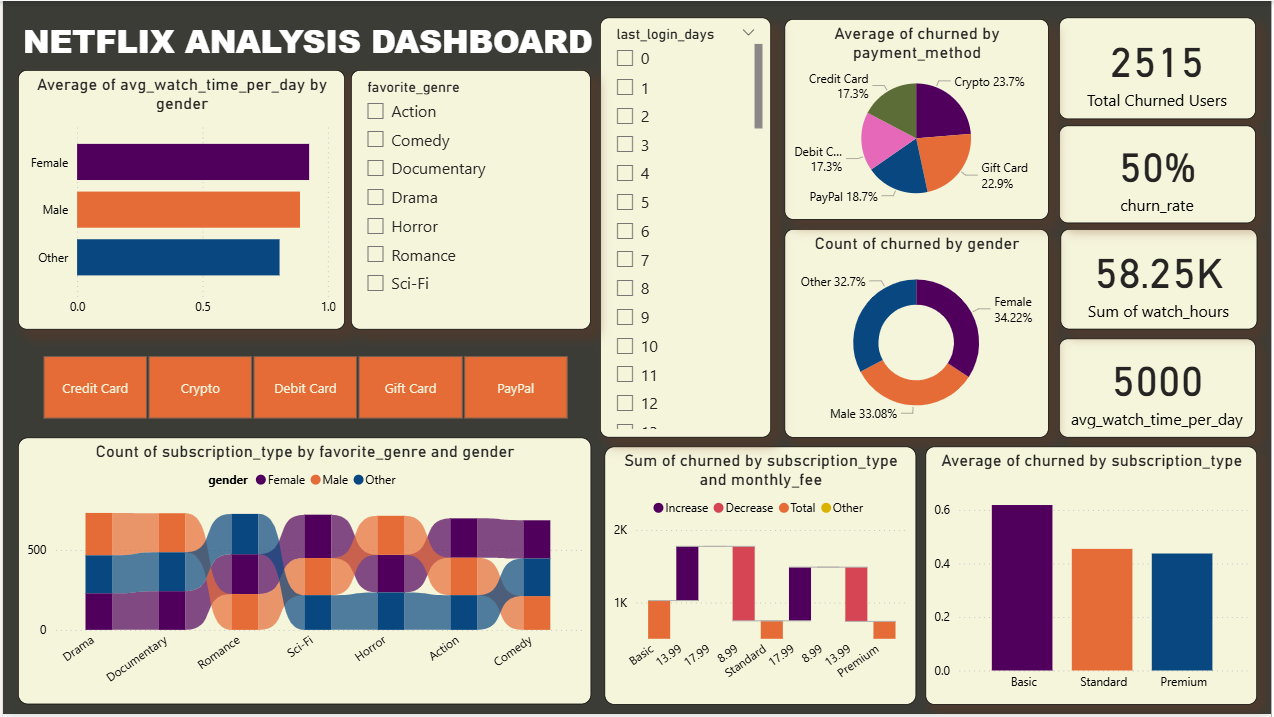

This screenshot's page, from the dashboard's own definition file:
{"tool":"powerbi","page":{"name":"Page 1","canvas":[1280,720],"ordinal":0},"visuals":[{"type":"card","fields":{"Values":["CountNonNull(netflix_customer_churn.avg_watch_time_per_day)"]},"box":[1066,340.7,198.4,99.9],"z":0},{"type":"card","fields":{"Values":["Sum(netflix_customer_churn.churned)"]},"box":[1066,16.7,198.4,103],"z":1000},{"type":"card","fields":{"Values":["Sum(netflix_customer_churn.watch_hours)"]},"box":[1067.5,230.2,198.4,101.5],"z":2000},{"type":"card","fields":{"Values":["netflix_customer_churn.churn_rate"]},"box":[1066,125.7,198.4,98.4],"z":3000},{"type":"barChart","fields":{"Y":["Avg(netflix_customer_churn.avg_watch_time_per_day)"],"Category":["netflix_customer_churn.gender"]},"box":[15.1,69.7,330.1,262],"z":4000},{"type":"donutChart","fields":{"Category":["netflix_customer_churn.gender"],"Y":["CountNonNull(netflix_customer_churn.churned)"]},"box":[788.9,230.2,266.5,210.5],"z":5000},{"type":"pieChart","fields":{"Category":["netflix_customer_churn.payment_method"],"Y":["Avg(netflix_customer_churn.churned)"]},"box":[788.9,18.2,266.5,202.9],"z":6000},{"type":"ribbonChart","fields":{"Y":["CountNonNull(netflix_customer_churn.subscription_type)"],"Category":["netflix_customer_churn.favorite_genre"],"Series":["netflix_customer_churn.gender"]},"box":[15.1,440.6,578.4,269.5],"z":7000},{"type":"columnChart","fields":{"Y":["Avg(netflix_customer_churn.churned)"],"Category":["netflix_customer_churn.subscription_type"]},"box":[931.2,449.7,334.6,260.4],"z":8000},{"type":"waterfallChart","fields":{"Breakdown":["netflix_customer_churn.monthly_fee"],"Y":["Sum(netflix_customer_churn.churned)"],"Category":["netflix_customer_churn.subscription_type"]},"box":[607.2,449.7,315,260.4],"z":9000},{"type":"textbox","box":[15.1,12.1,593.6,57.5],"z":10000},{"type":"slicer","fields":{"Values":["netflix_customer_churn.last_login_days"]},"box":[602.7,16.7,172.6,424],"z":11000},{"type":"slicer","fields":{"Values":["netflix_customer_churn.favorite_genre"]},"box":[351.3,69.7,242.3,262],"z":12000},{"type":"slicer","fields":{"Values":["netflix_customer_churn.payment_method"]},"box":[15.1,351.3,578.4,77.2],"z":14000}]}

Visuals, with their boxes in screenshot pixels (x1, y1, x2, y2), scaled from the page's 1280x720 canvas onto the 1274x717 screenshot:
card - CountNonNull(netflix_customer_churn.avg_watch_time_per_day): x1=1061 y1=339 x2=1258 y2=439
card - Sum(netflix_customer_churn.churned): x1=1061 y1=17 x2=1258 y2=119
card - Sum(netflix_customer_churn.watch_hours): x1=1062 y1=229 x2=1260 y2=330
card - netflix_customer_churn.churn_rate: x1=1061 y1=125 x2=1258 y2=223
barChart - Avg(netflix_customer_churn.avg_watch_time_per_day) x netflix_customer_churn.gender: x1=15 y1=69 x2=344 y2=330
donutChart - netflix_customer_churn.gender x CountNonNull(netflix_customer_churn.churned): x1=785 y1=229 x2=1050 y2=439
pieChart - netflix_customer_churn.payment_method x Avg(netflix_customer_churn.churned): x1=785 y1=18 x2=1050 y2=220
ribbonChart - CountNonNull(netflix_customer_churn.subscription_type) x netflix_customer_churn.favorite_genre: x1=15 y1=439 x2=591 y2=707
columnChart - Avg(netflix_customer_churn.churned) x netflix_customer_churn.subscription_type: x1=927 y1=448 x2=1260 y2=707
waterfallChart - netflix_customer_churn.monthly_fee x Sum(netflix_customer_churn.churned): x1=604 y1=448 x2=918 y2=707
textbox: x1=15 y1=12 x2=606 y2=69
slicer - netflix_customer_churn.last_login_days: x1=600 y1=17 x2=772 y2=439
slicer - netflix_customer_churn.favorite_genre: x1=350 y1=69 x2=591 y2=330
slicer - netflix_customer_churn.payment_method: x1=15 y1=350 x2=591 y2=427
